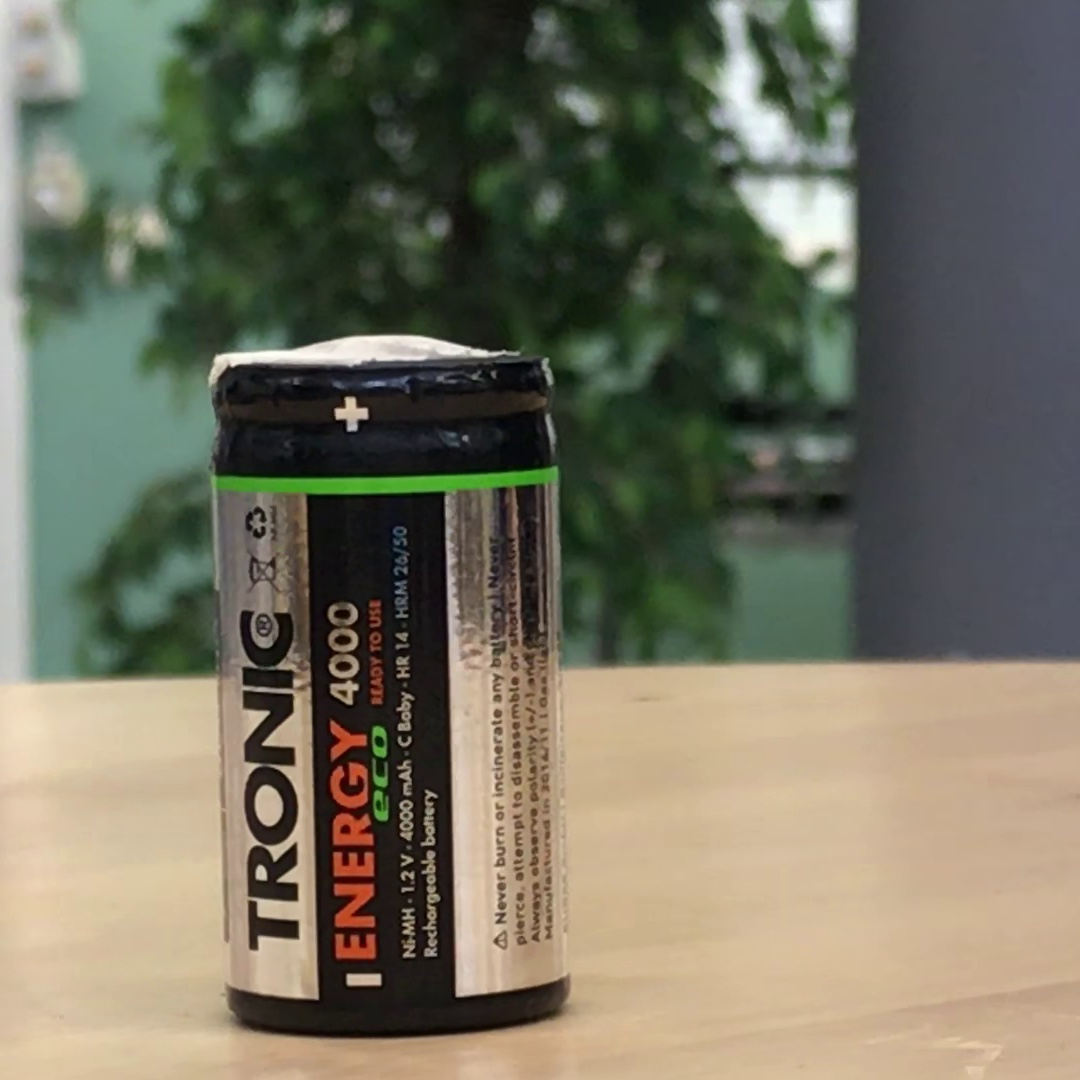keyword: (388, 624, 418, 687), (393, 911, 425, 967)
